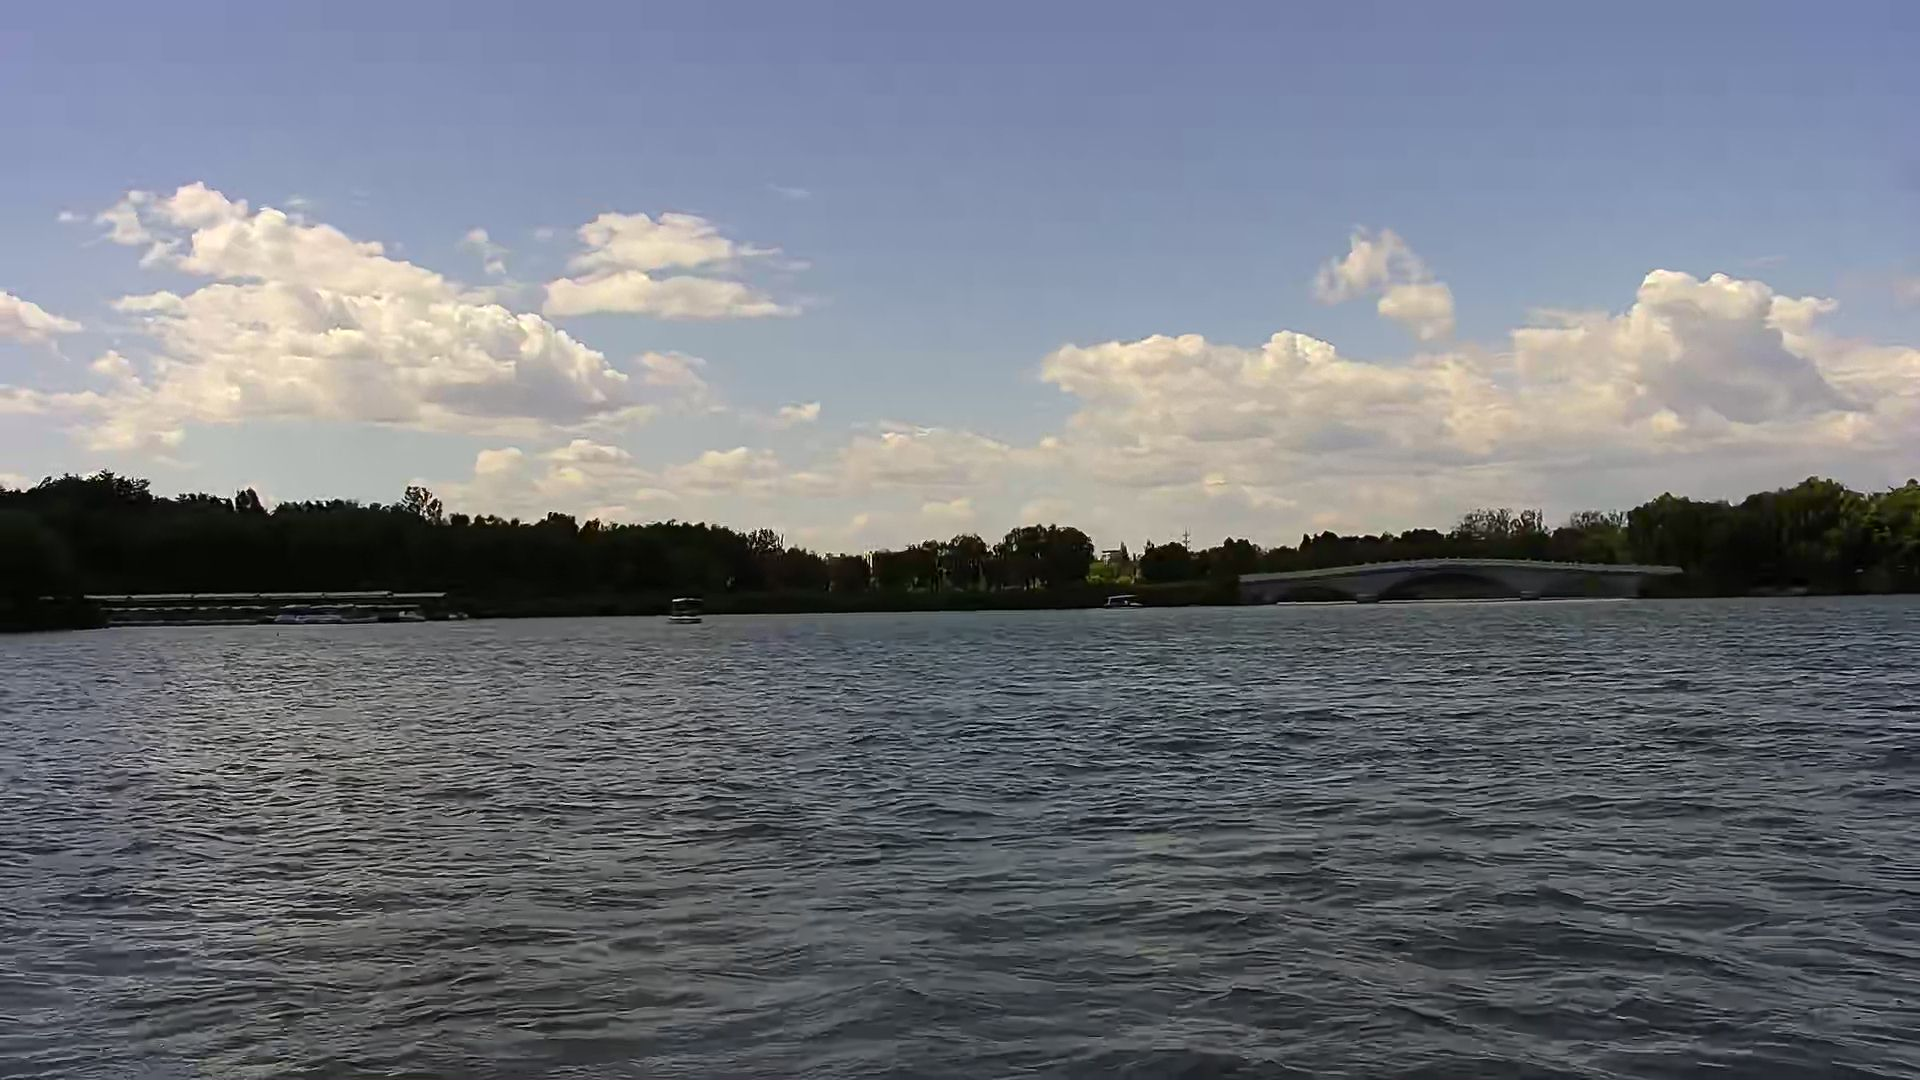boat: (663, 593, 712, 626), (1104, 585, 1149, 612)
bridge: (1241, 556, 1683, 607)
harbor: (83, 582, 458, 630)
